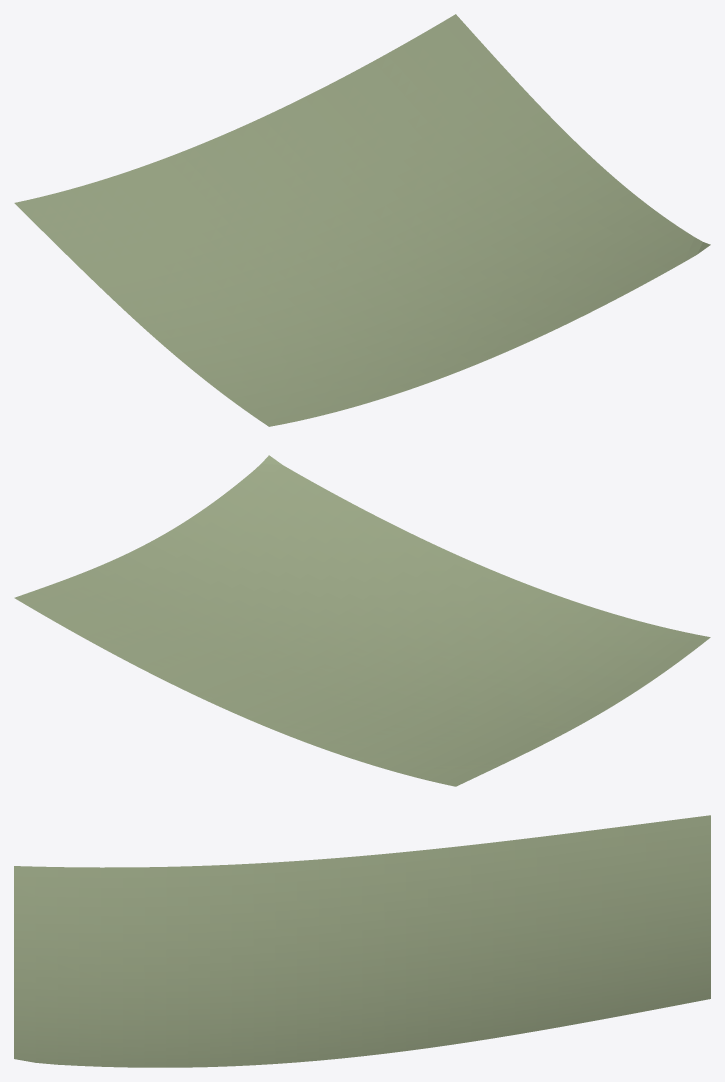
File: expanse-24-15.glb
3 views of the same model, one above another, from view 1: azimuth 30°, elevation 25°; view 2: azimuth 150°, elevation 25°; view 3: azimuth 270°, elevation 25° (orthographic). The views are drawn at different scales.
Parts seen in each view (by area): view 1: expanse-24-15; view 2: expanse-24-15; view 3: expanse-24-15.
Boxes of the visible parts, box(x1,y1,x2,y2) form: expanse-24-15: box(14, 14, 710, 426); expanse-24-15: box(14, 455, 710, 786); expanse-24-15: box(14, 815, 710, 1067).
Size of the model in its own units: 256 by 67.23 by 256.
